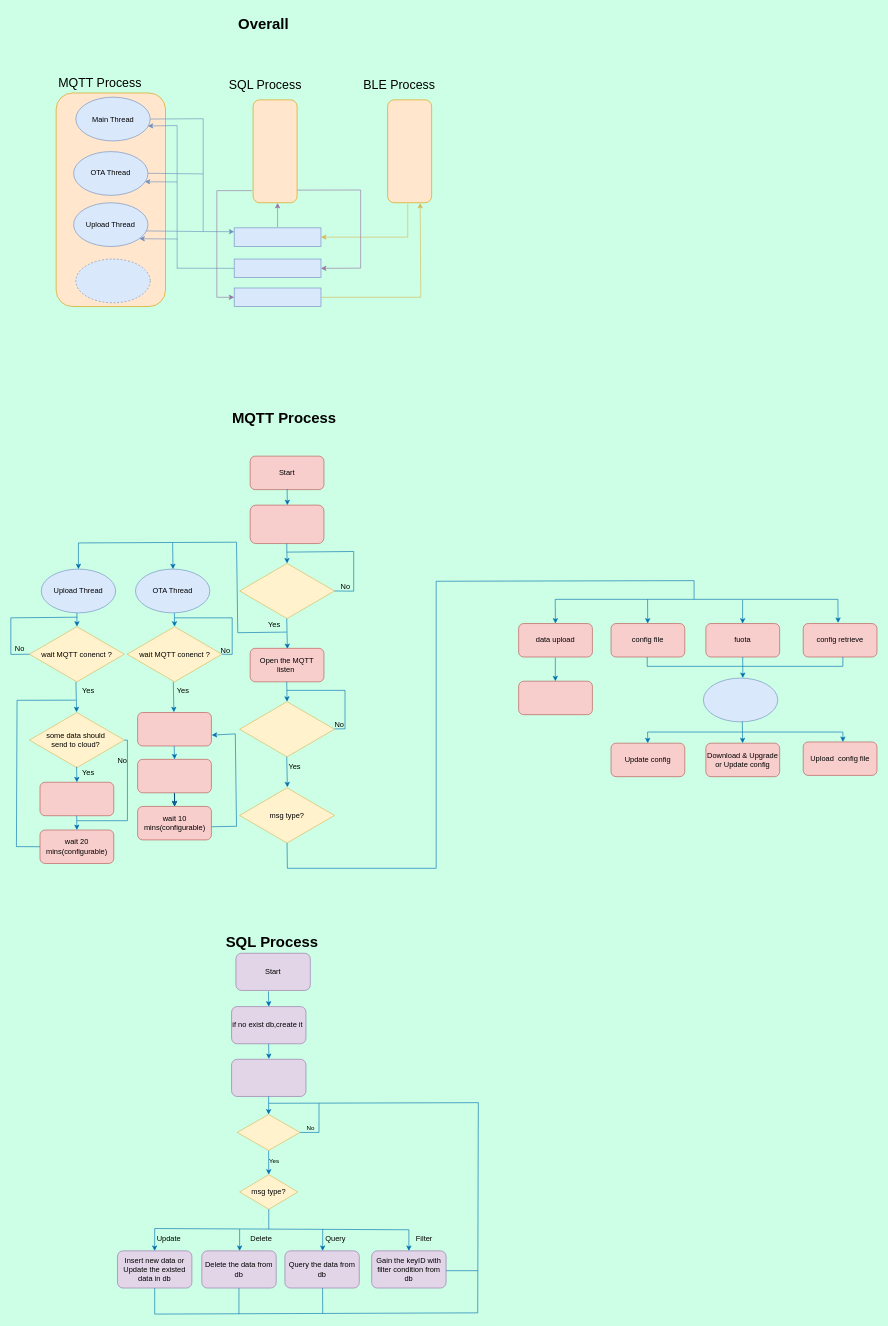
Some shapes in this 888 by 1326 pixel diagram are drawn without their labels. The shapes that lost their labels are listed below. From the top down, each one's centre as x and y in pixels, then its label:
At point 277,236: "SQL_QUEUE".
At point 112,280: "Http Thread".
At point 277,268: "MQTT_QUEUE".
At point 277,297: "BLE_QUEUE".
At point 287,524: "if no exist msg queue,create it;otherwise get the id of queue and init sem".
At point 286,591: "wait mqtt server configuration from sql process?".
At point 555,698: "Upload data".
At point 740,699: "Http Thread（killed when handled all things）".
At point 174,729: "Upload gateway timestamp and hash of sensors".
At point 286,729: "wait the mqtt msg from cloud ?".
At point 174,776: "Upload app version".
At point 76,799: "Upload data if data should send to cloud".
At point 268,1077: "if no exist msg queue,create it ;otherwise,get the id of queue".
At point 268,1132: "wait data from queue?".
